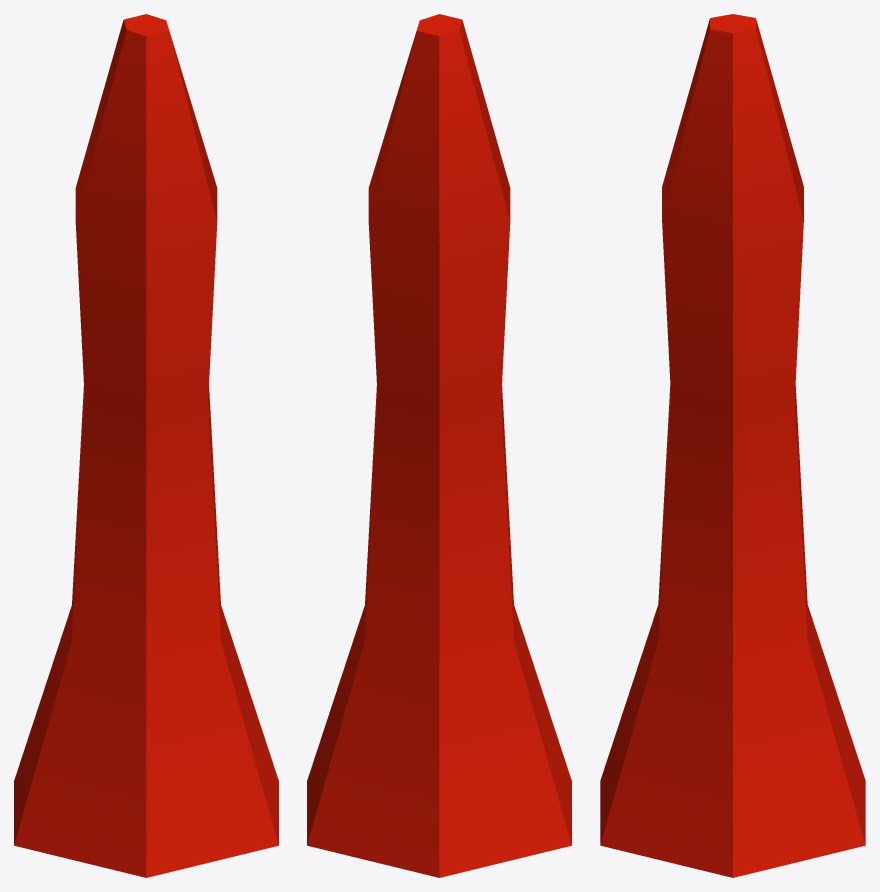
File: proyectil alto.fbx
3 renders of one model, left to right at view 1: azimuth 30°, elevation 25°; view 2: azimuth 150°, elevation 25°; view 3: azimuth 270°, elevation 25°, orthographic.
Visible parts, largest first — view 1: pCylinder3; view 2: pCylinder3; view 3: pCylinder3.
Boxes of the visible parts, x1,y1,x2,y2 form: pCylinder3: (14,14,278,877); pCylinder3: (307,14,571,877); pCylinder3: (600,14,865,877).
Bounding box in the file's own units: 1.11 × 3.16 × 0.9622.
